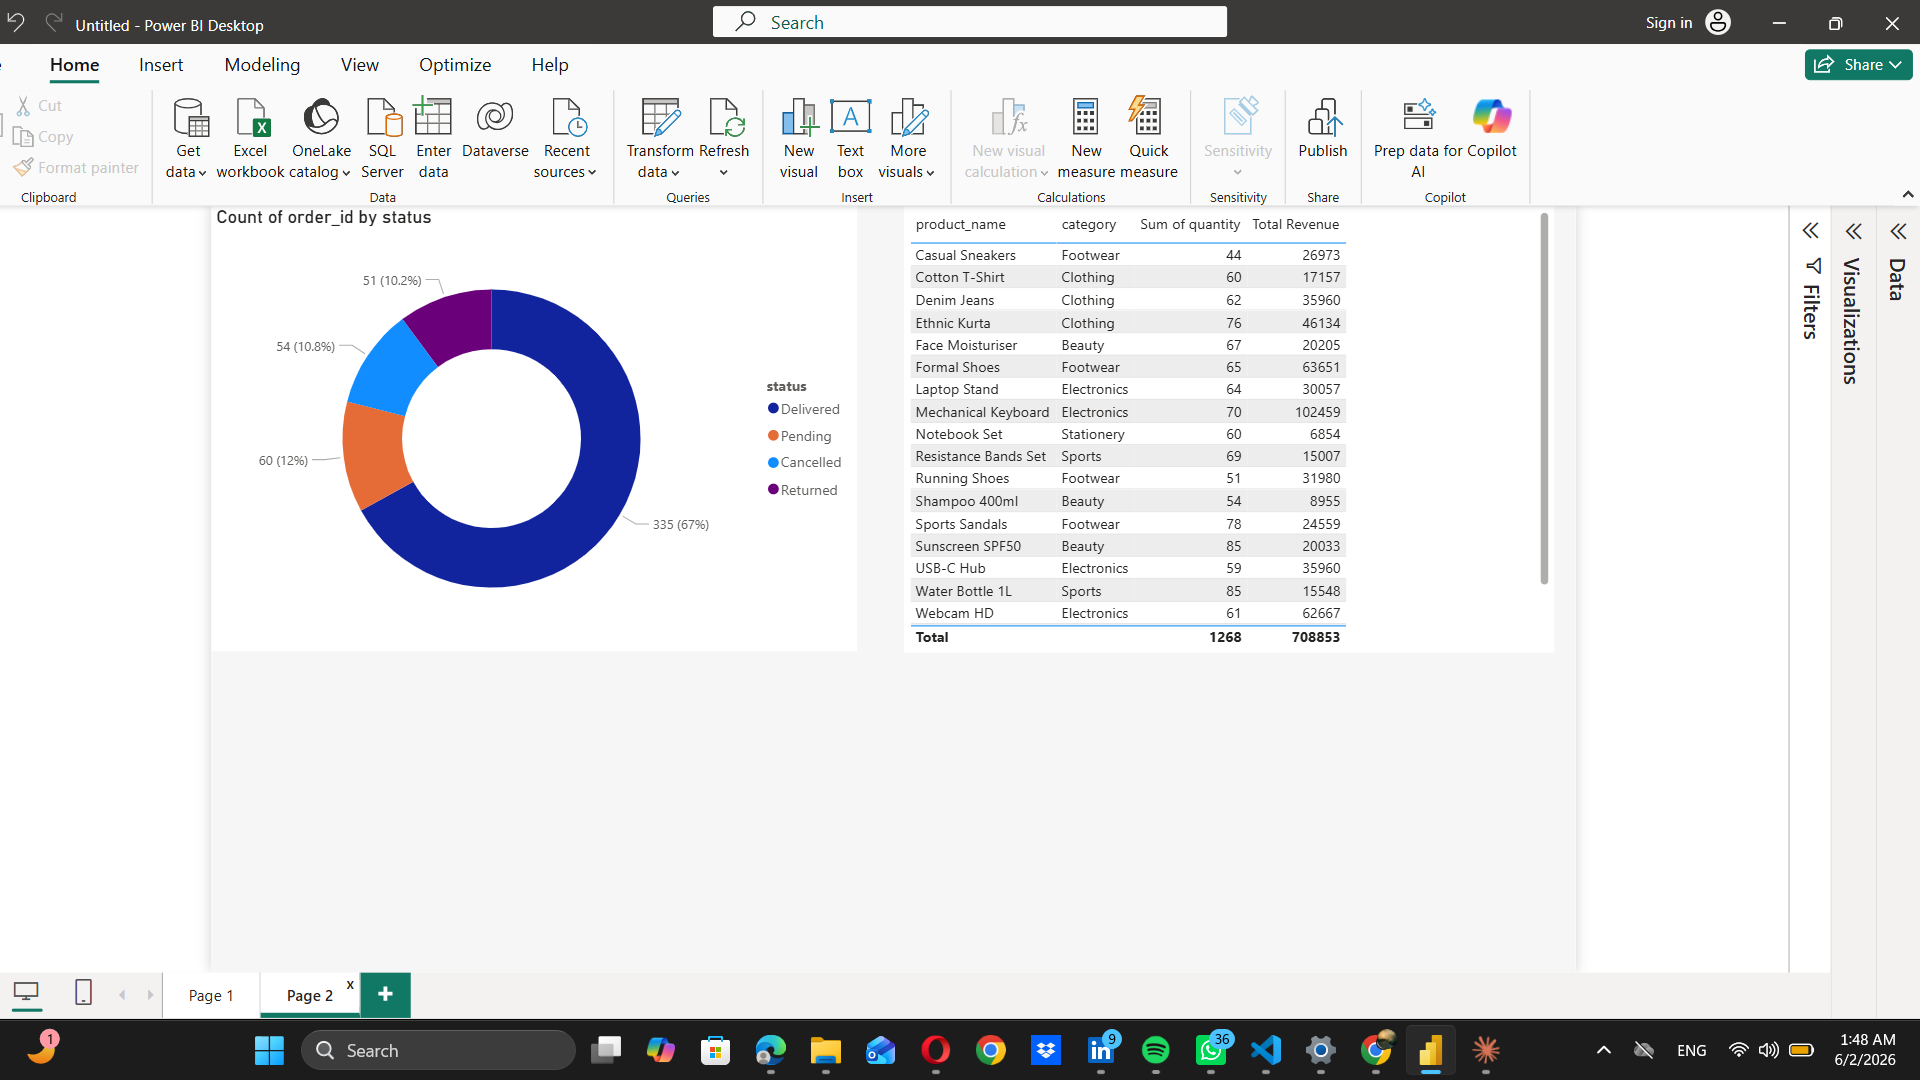

The page's visual inventory and layout, read from the dashboard file:
{"tool":"powerbi","page":{"name":"Page 2","canvas":[1280,720],"ordinal":1},"visuals":[{"type":"donutChart","fields":{"Category":["ecommerce_cleaned.status"],"Y":["CountNonNull(ecommerce_cleaned.order_id)"]},"box":[0,0,606.5,418.5],"z":0},{"type":"tableEx","fields":{"Values":["ecommerce_cleaned.product_name","ecommerce_cleaned.category","Sum(ecommerce_cleaned.quantity)","ecommerce_cleaned.Total Revenue"]},"box":[650.4,1.4,610.6,418.5],"z":1}]}

Visuals, with their boxes on the page's 1280x720 design canvas (x1, y1, x2, y2). These are canvas units, not pixel positions in the 1920x1080 screenshot, which may show the page scaled, cropped or inside an application window:
donutChart - ecommerce_cleaned.status x CountNonNull(ecommerce_cleaned.order_id): x1=0, y1=0, x2=606, y2=418
tableEx - ecommerce_cleaned.product_name x ecommerce_cleaned.category: x1=650, y1=1, x2=1261, y2=420
